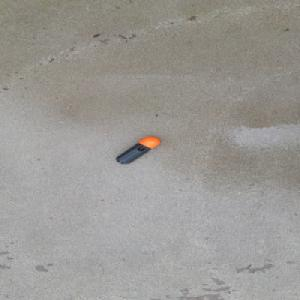PlasticPart: (115, 136, 161, 164)
